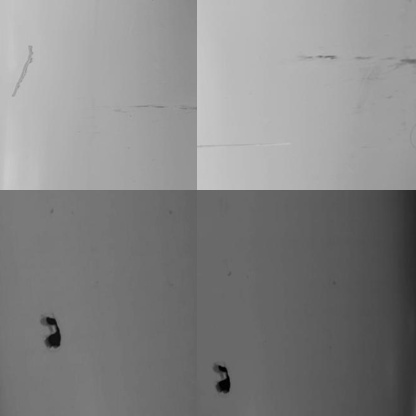kongdong: (35, 320, 65, 352), (212, 359, 234, 397)
sunshang: (11, 47, 38, 100)
